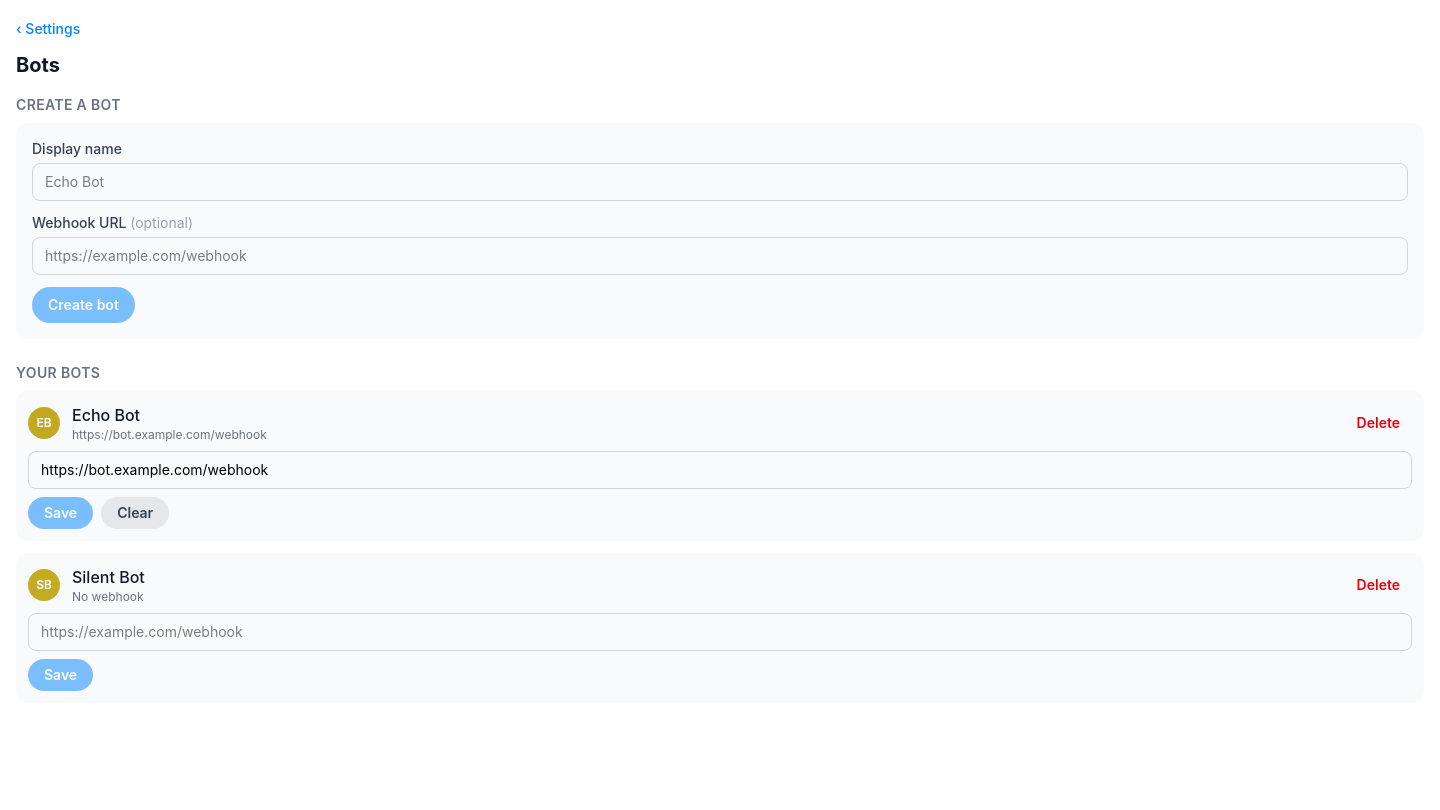
BotsPage › edits a webhook: PATCHes the new URL and reflects it
Replace the text in the field named "Webhook URL for Echo Bot" with "https://new.example.com/hook" at (720, 470), box [28,451,1412,489]
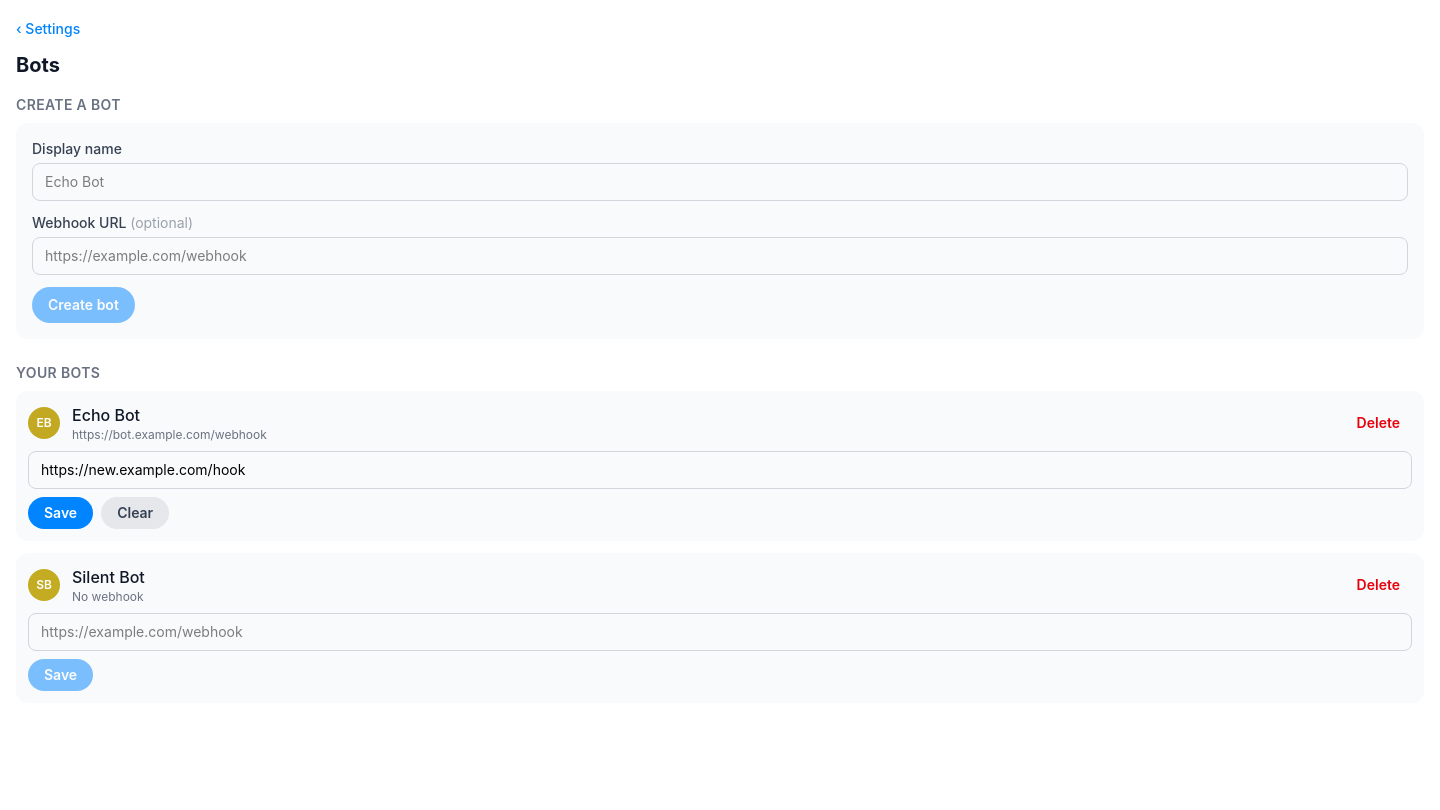
Click the button "Save" below "Echo Bot" at (61, 513), box [28,497,93,529]
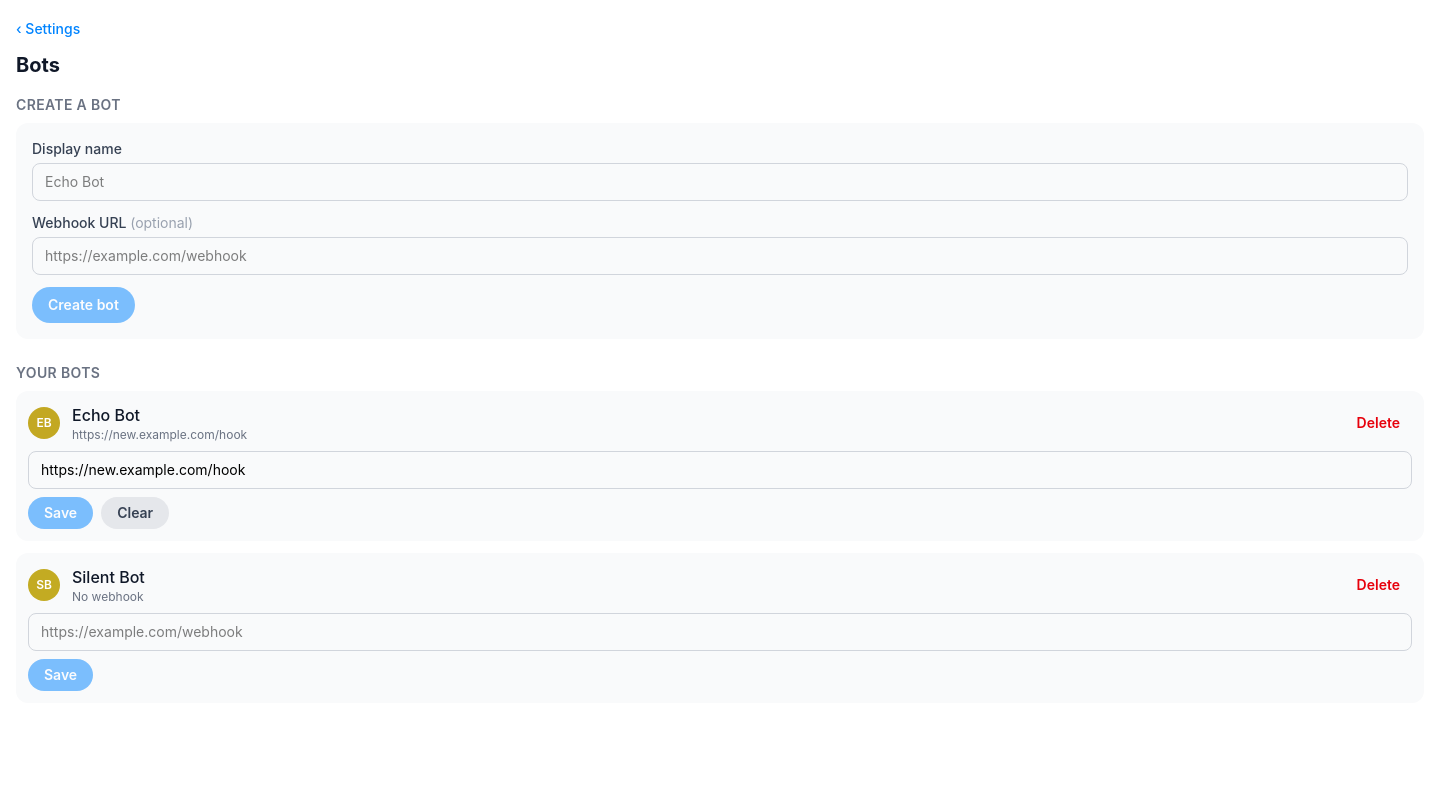
Expected: the text "https://new.example.com/hook" is shown, [72,427,247,443]
